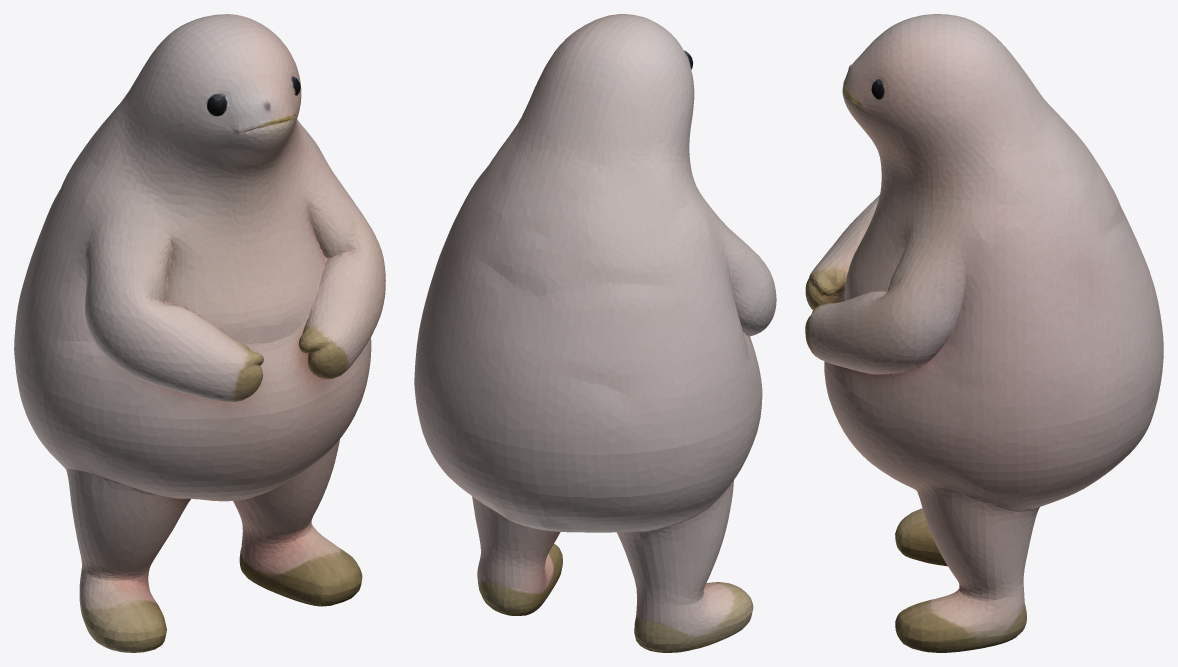
The model's file is pink-frog.glb.
The picture shows the model from 3 angles, left to right: view 1: azimuth 30°, elevation 25°; view 2: azimuth 150°, elevation 25°; view 3: azimuth 270°, elevation 25°; orthographic projection. The views are drawn at different scales.
Parts seen in each view (by area): view 1: geometry_0; view 2: geometry_0; view 3: geometry_0.
Boxes of the visible parts, <box> form: geometry_0: <box>14,14,385,652</box>; geometry_0: <box>414,14,776,652</box>; geometry_0: <box>805,14,1163,652</box>.
Bounding box in the file's own units: 0.0476 × 0.086 × 0.0482.
Materials: 1 (1 with a texture image).
